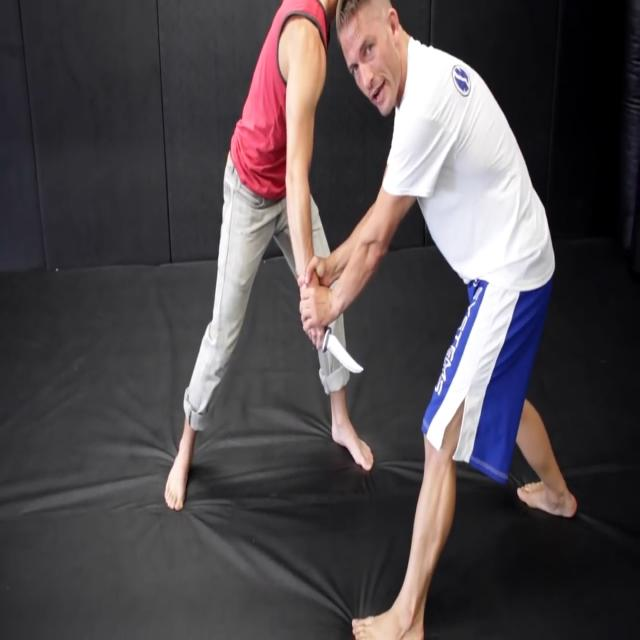knife: (324, 325, 370, 385)
